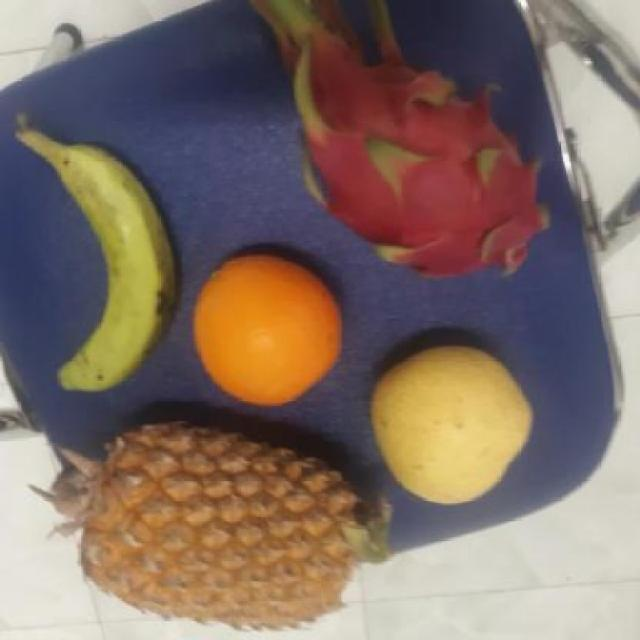banana: (42, 137, 178, 391)
dragon fruit: (291, 58, 558, 274)
guava: (371, 344, 538, 501)
pineapple: (68, 405, 390, 633)
